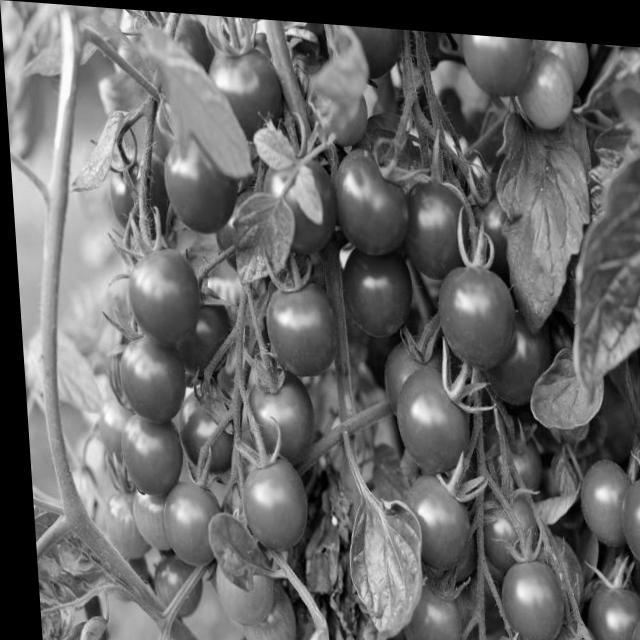kirmizi: (312, 136, 428, 252), (249, 296, 363, 388), (442, 251, 520, 373), (513, 574, 640, 640), (394, 396, 478, 482)
